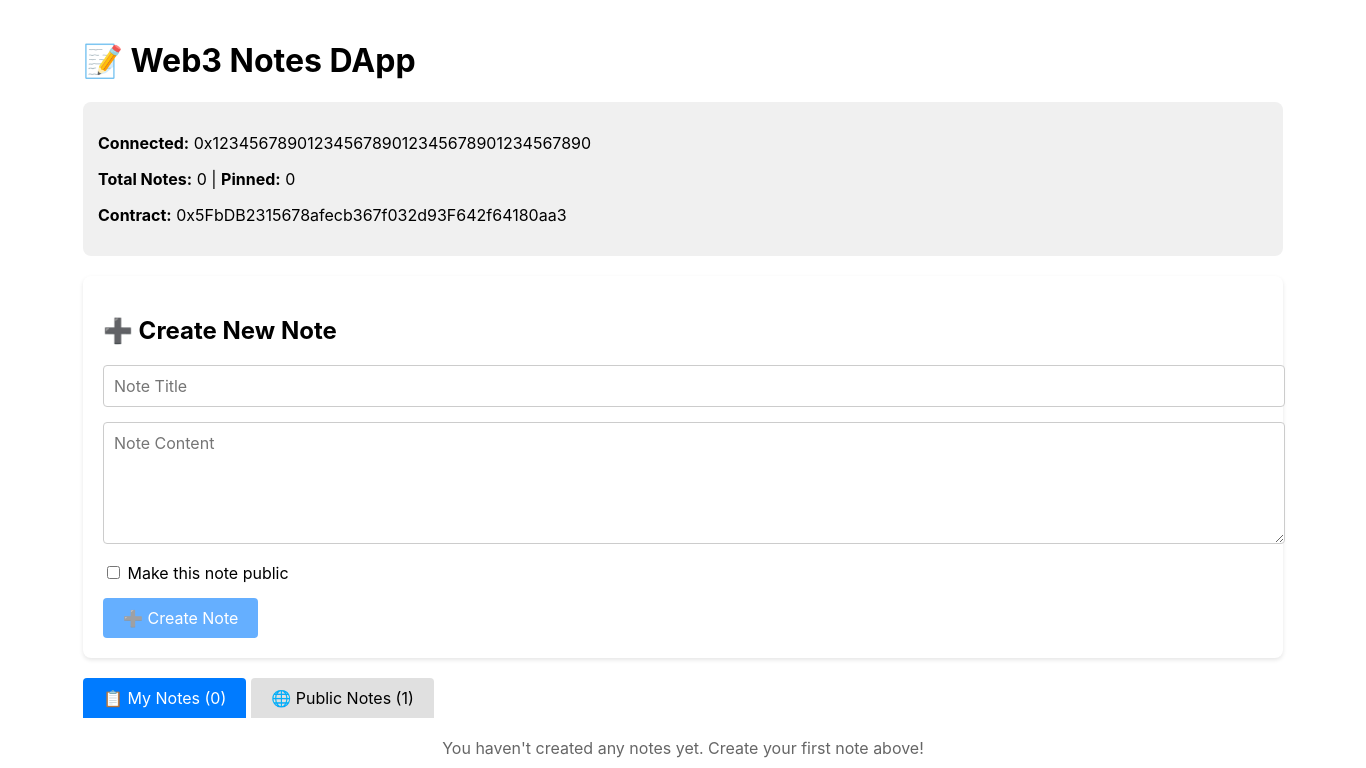
Notes Component › Note with Tips › should show tip badge on tipped notes
Click the button "🌐 Public Notes (1)": (343, 698) x1=251 y1=678 x2=434 y2=718
(page scrolled)
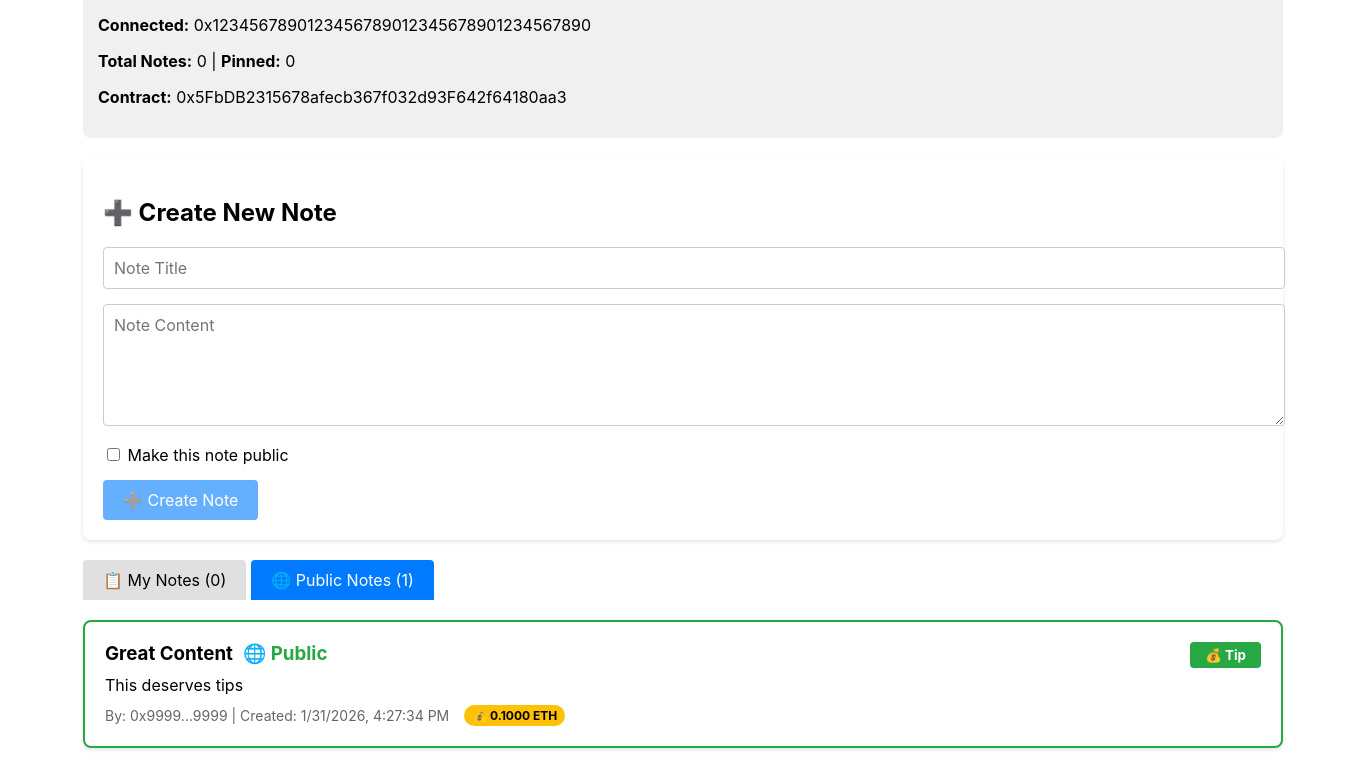
Expected: the text "💰 0.1000 ETH" is shown, x1=464 y1=705 x2=565 y2=726
